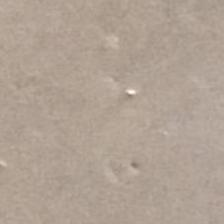Non_Crack: (27, 22, 199, 200)
